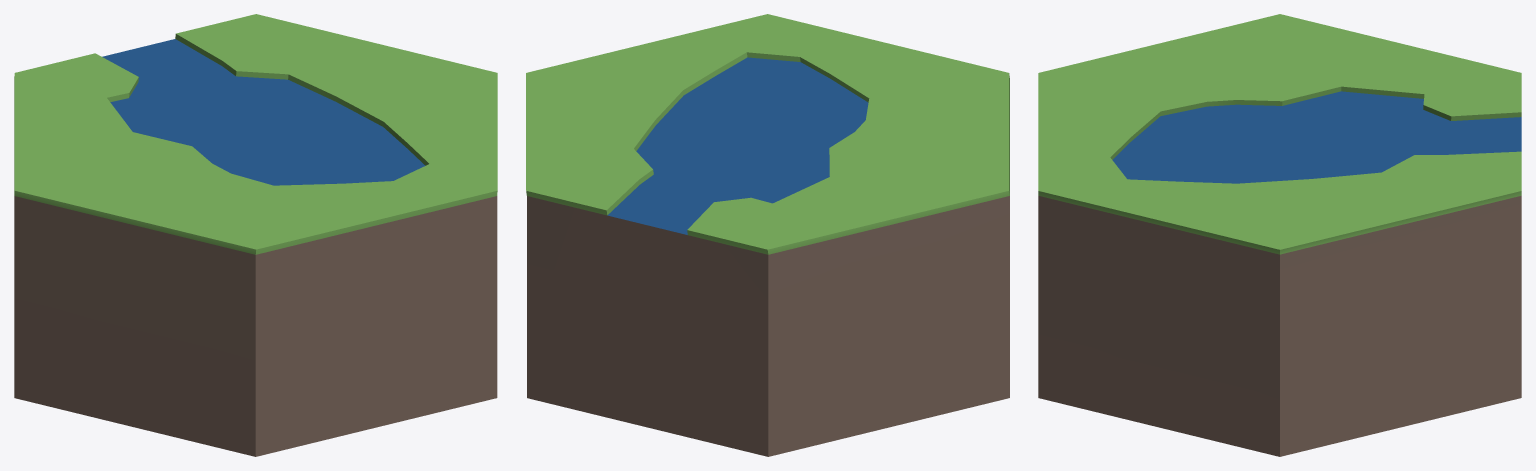
The model's file is tile_lake02.fbx.
3 renders of one model, left to right at view 1: azimuth 30°, elevation 25°; view 2: azimuth 150°, elevation 25°; view 3: azimuth 270°, elevation 25°, orthographic.
Parts seen in each view (by area): view 1: Tile_Lake1; view 2: Tile_Lake1; view 3: Tile_Lake1.
Part boxes in pixels (left/top/right/bottom): Tile_Lake1: left=14, top=14, right=497, bottom=456; Tile_Lake1: left=526, top=14, right=1009, bottom=456; Tile_Lake1: left=1038, top=14, right=1521, bottom=456.
Size of the model in its own units: 2 by 0.82 by 1.73.
